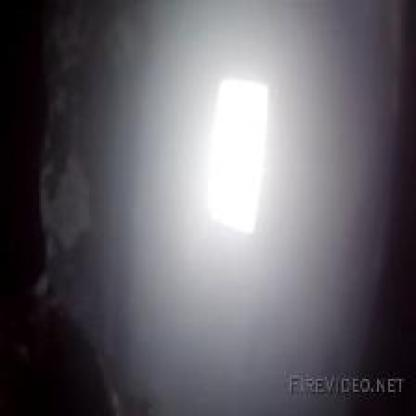other: (193, 28, 269, 246)
